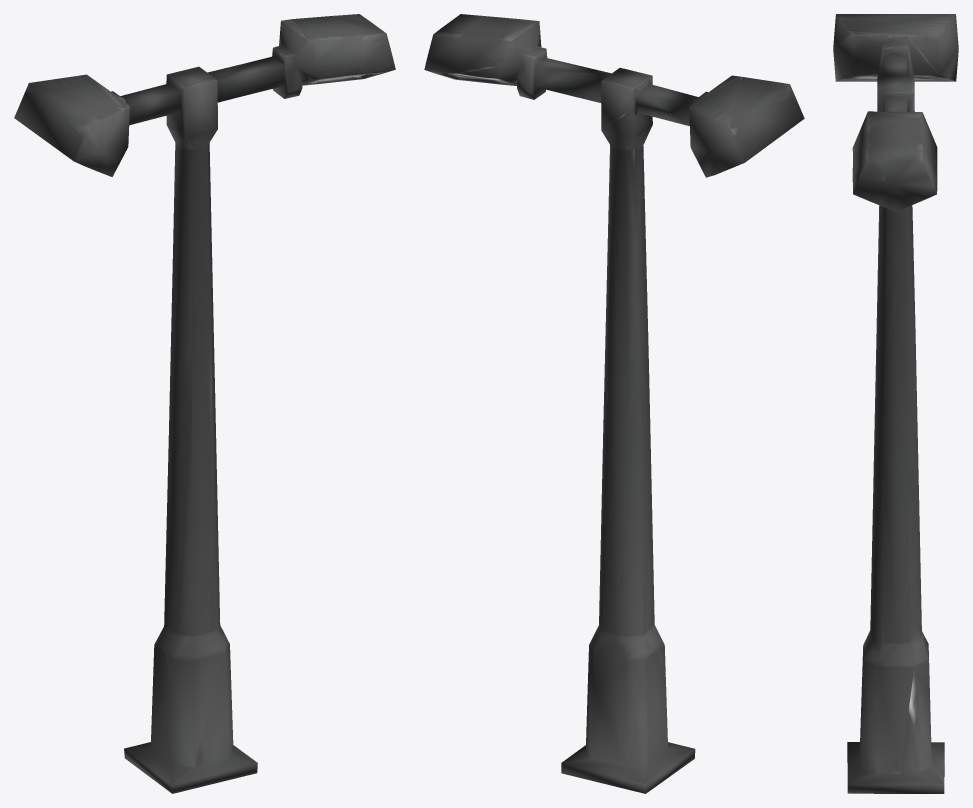
The model's file is lamp_double.glb.
3 renders of one model, left to right at view 1: azimuth 30°, elevation 25°; view 2: azimuth 150°, elevation 25°; view 3: azimuth 270°, elevation 25°, orthographic.
Visible parts, largest first — view 1: lamp_double; view 2: lamp_double; view 3: lamp_double.
Part boxes in pixels (<box>): lamp_double: <box>14,14,395,793</box>; lamp_double: <box>424,14,804,793</box>; lamp_double: <box>833,14,958,793</box>.
Bounding box in the file's own units: 2.72 × 5.6 × 0.8947.
1 material, 1 textured.
